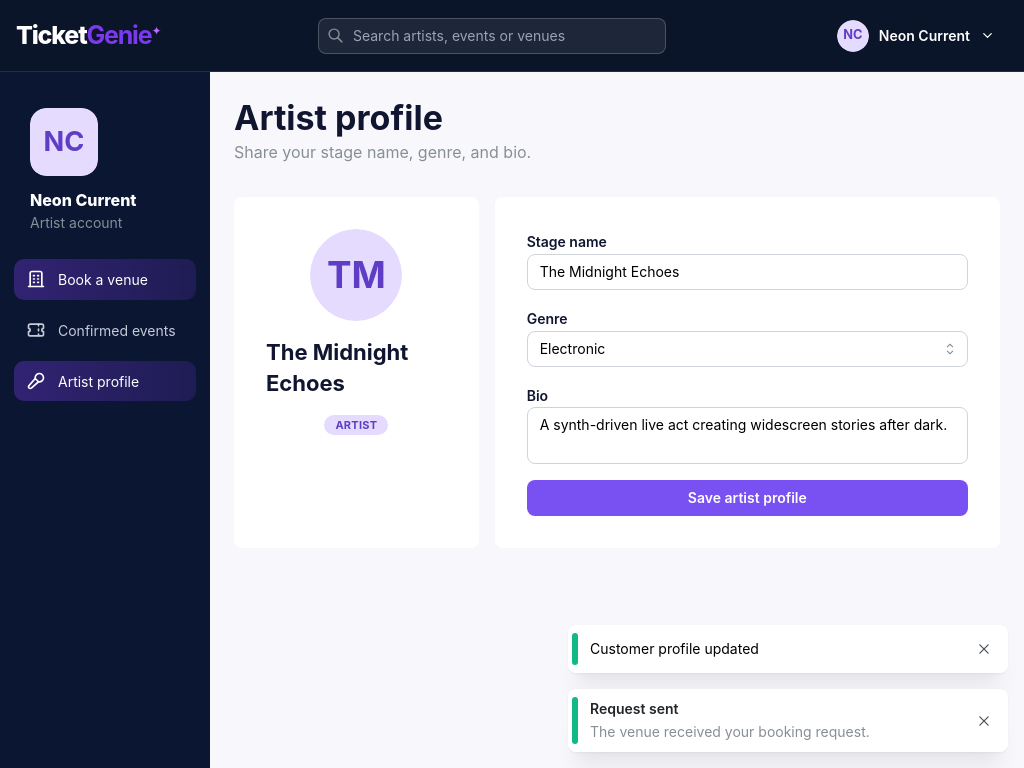
Test: application route smoke coverage › updates the Artist profile through MSW
Expected: the heading "Artist profile" is shown, [234,97,443,138]
Click the button "Save artist profile" at [747, 498], box [527,480,968,516]
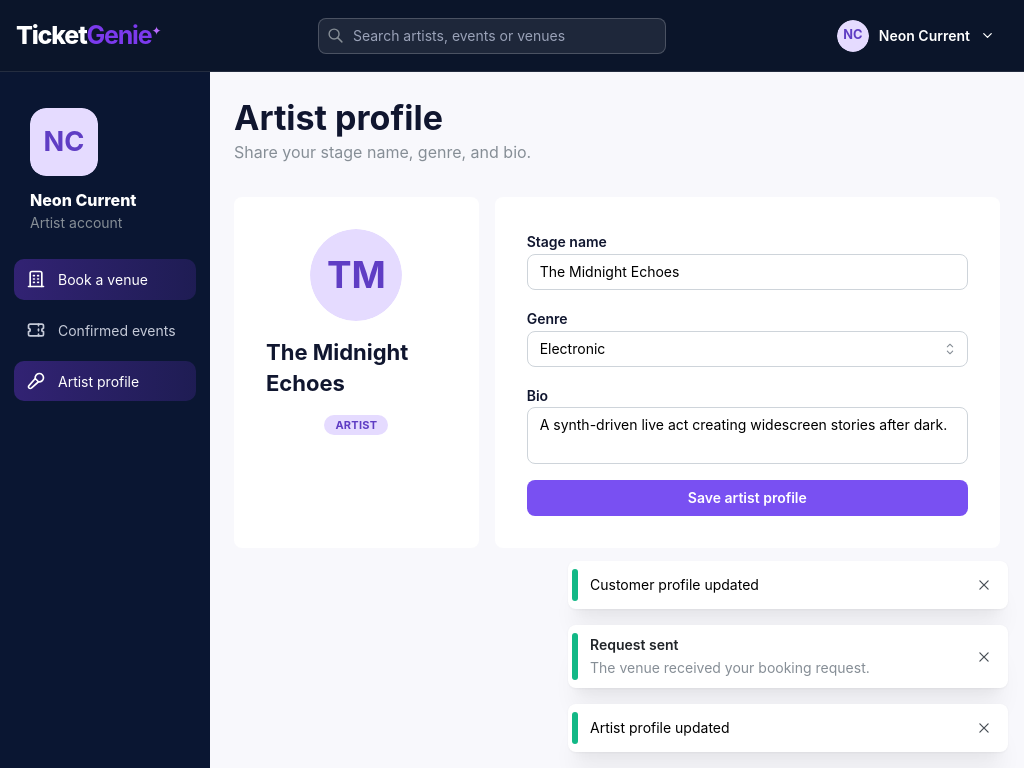
Now the text "Artist profile updated" is shown, box [590,719,730,736]
